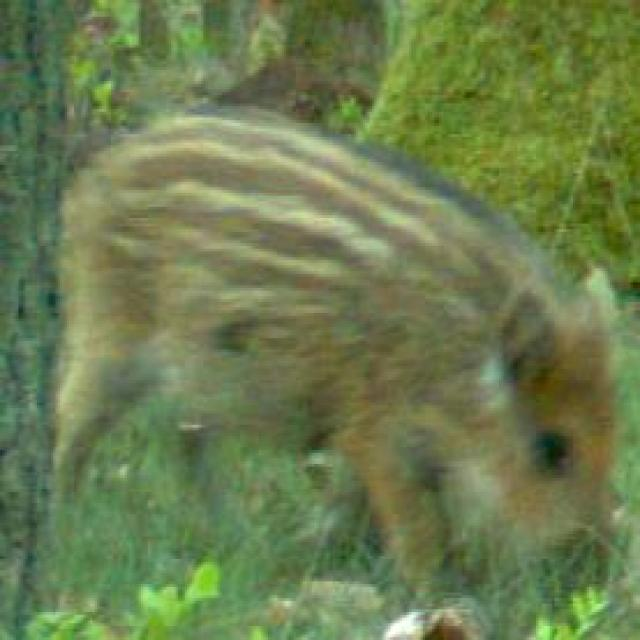pig: (35, 14, 640, 596)
